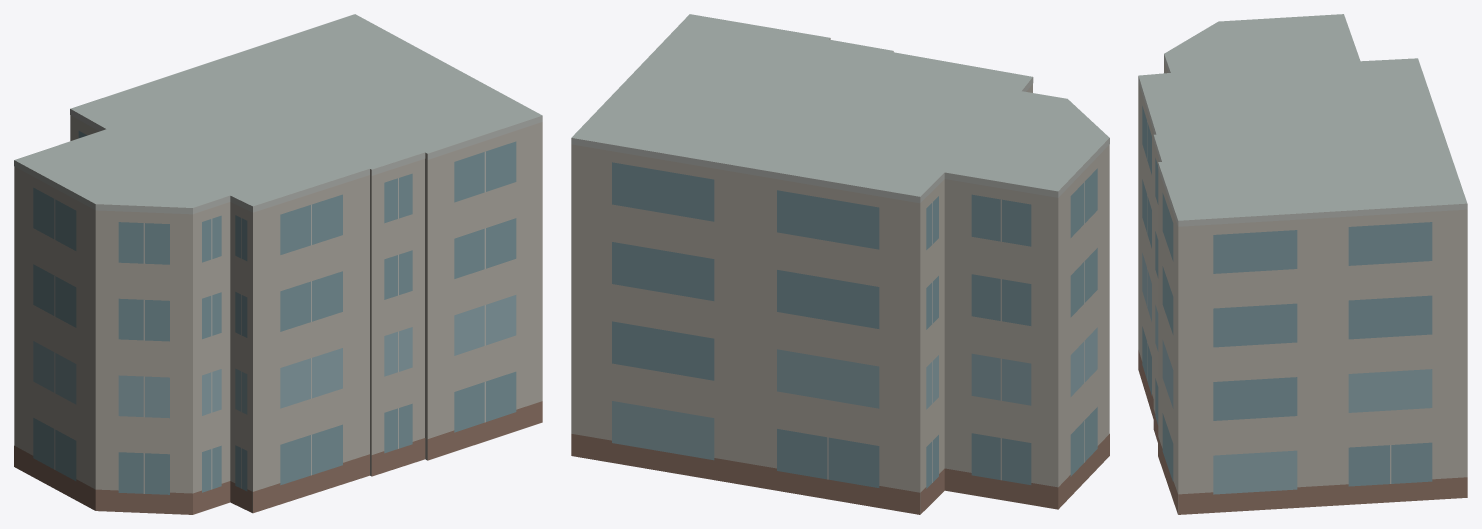
Rendered from survey-upis-32953711.glb.
3 renders of one model, left to right at view 1: azimuth 30°, elevation 25°; view 2: azimuth 150°, elevation 25°; view 3: azimuth 270°, elevation 25°, orthographic. The views are drawn at different scales.
Visible parts, largest first — view 1: survey-upis-32953711.tmp; view 2: survey-upis-32953711.tmp; view 3: survey-upis-32953711.tmp.
Boxes of the visible parts, <box> form: survey-upis-32953711.tmp: <box>14,14,542,514</box>; survey-upis-32953711.tmp: <box>571,14,1109,514</box>; survey-upis-32953711.tmp: <box>1138,14,1467,514</box>.
Bounding box in the file's own units: 18.06 × 11.97 × 12.15.
